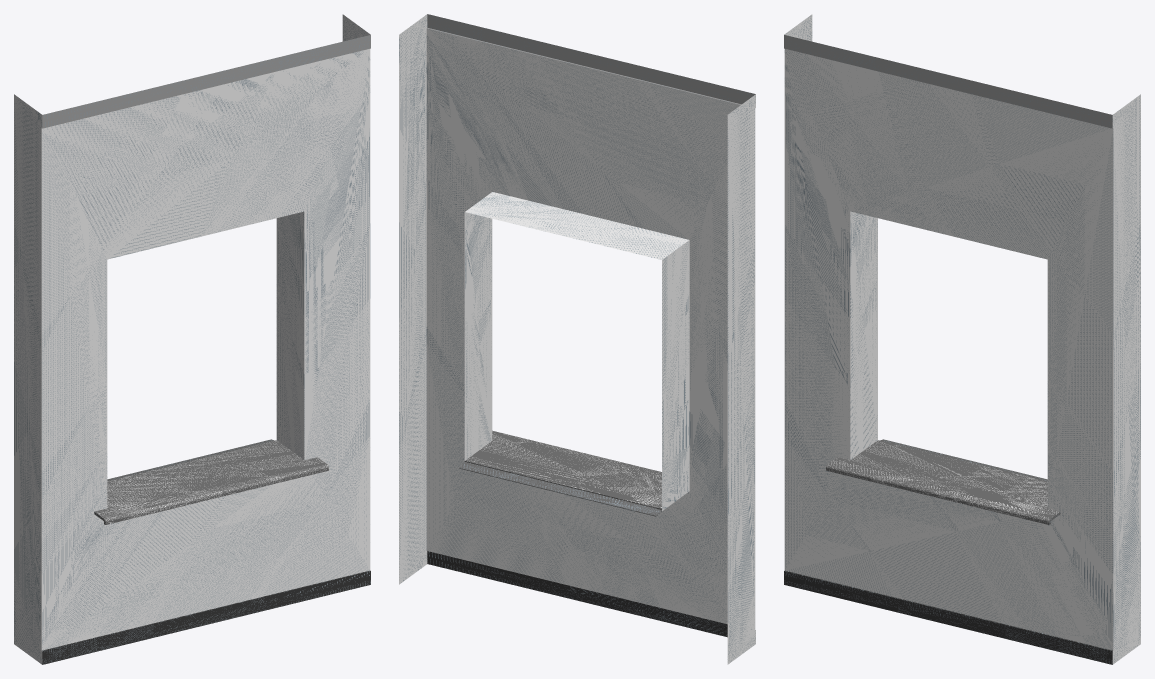
The model's file is WindowBlock_os_plinth_[250x400]_150x181x[100].dae.
3 renders of one model, left to right at view 1: azimuth 30°, elevation 25°; view 2: azimuth 150°, elevation 25°; view 3: azimuth 330°, elevation 25°, orthographic.
Visible parts, largest first — view 1: group_2 (×4), group_1; view 2: group_2 (×4), group_1 (×2); view 3: group_2 (×4), group_1.
Part boxes in pixels (x1,y1,x2,y2): group_2 (×4): (14, 14, 370, 664); group_1: (94, 440, 328, 524); group_2 (×4): (399, 14, 755, 664); group_1 (×2): (459, 430, 661, 516); group_2 (×4): (784, 14, 1140, 664); group_1: (826, 440, 1060, 524).
Bounding box in the file's own units: 98.43 × 23.03 × 157.
